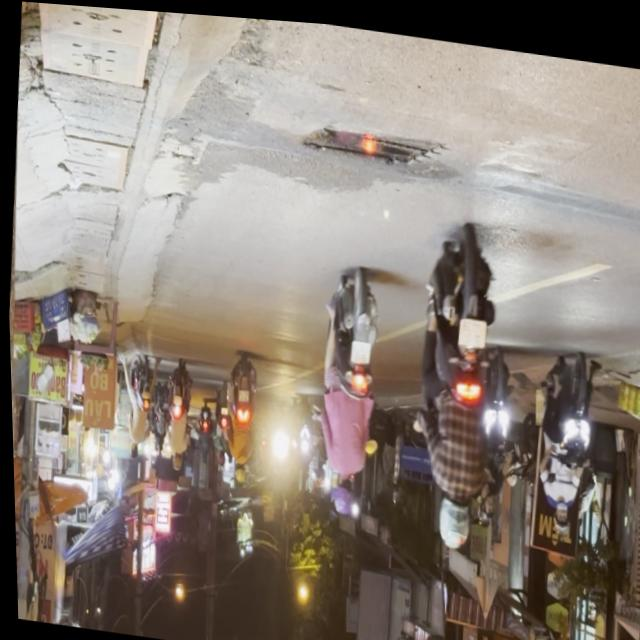helmet: (434, 489, 471, 546), (328, 469, 355, 513), (550, 496, 568, 527)
licenseplate: (400, 215, 511, 552), (306, 260, 389, 518), (527, 333, 604, 532)
nohelmet: (456, 311, 485, 344), (349, 336, 369, 360)
